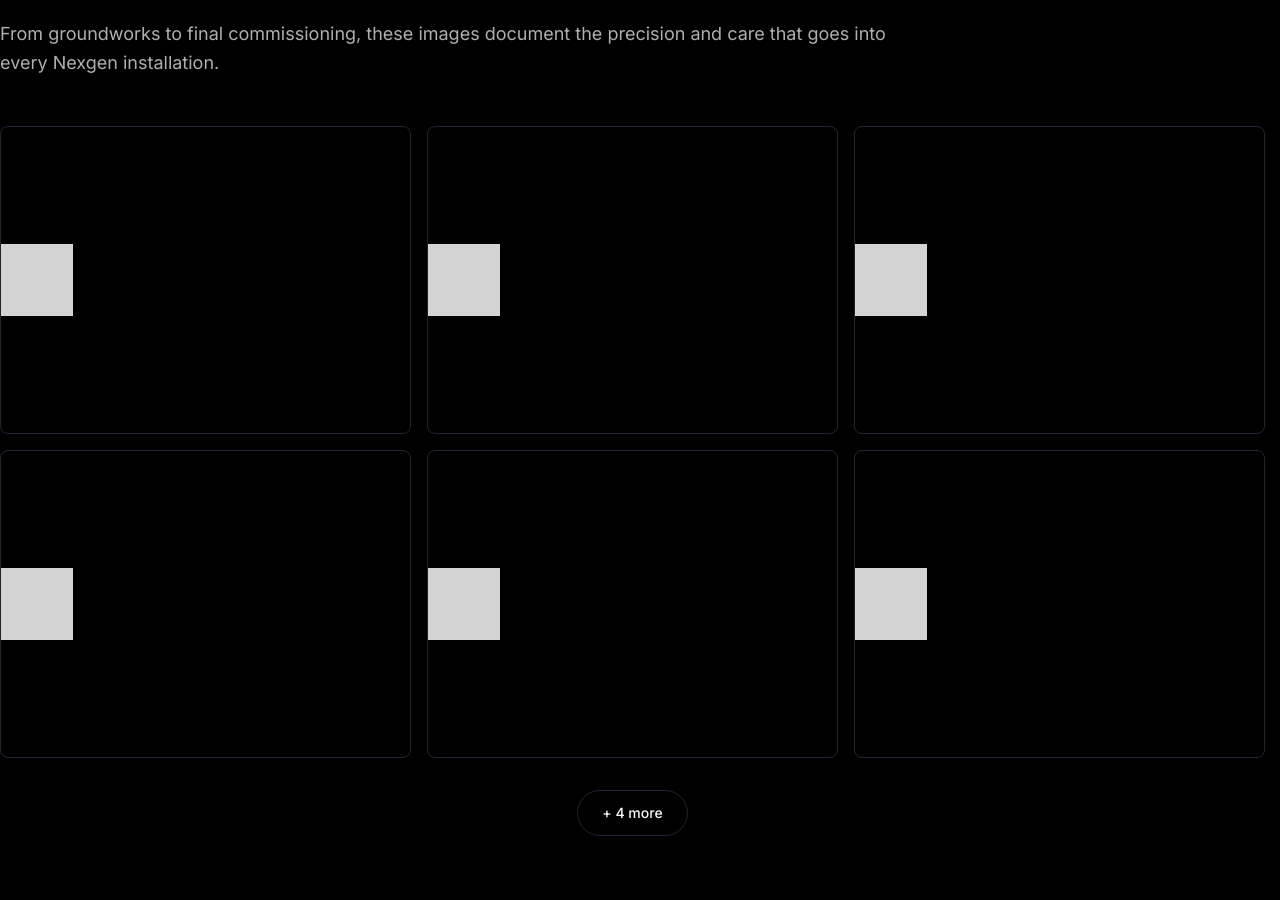
Test case: ProjectGallery › lightbox navigates full array — open at index 5, click next → shows image 6; counter shows 6 / 10
(page scrolled)
Click the button "Caption 5". click: coordinates (891, 604)
box: [854,450,1265,758]
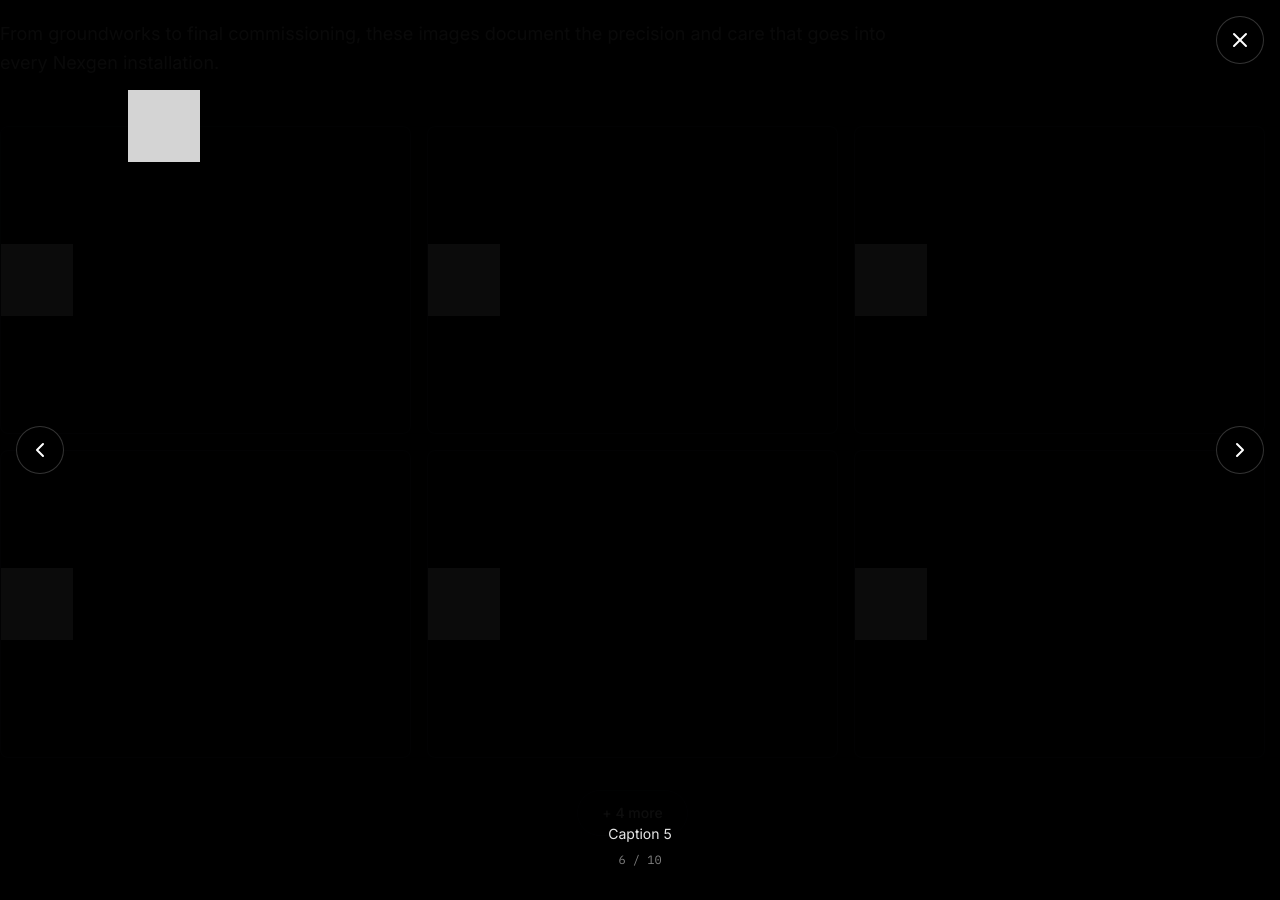
// Click next
Click the button named "Next image". click: coordinates (1240, 450)
box: [1216,426,1264,474]
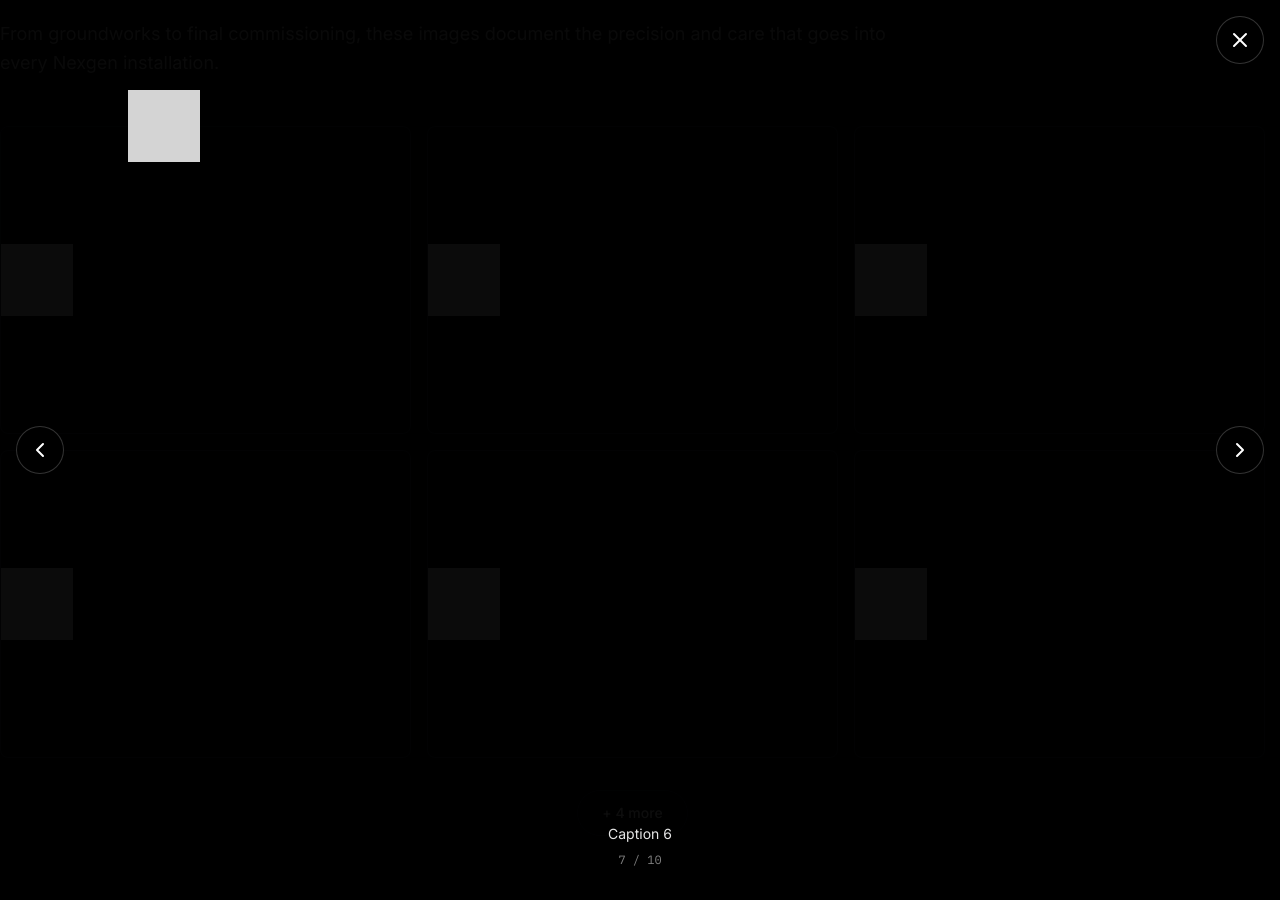
Expected: the text "7 / 10" is shown, [618,852,662,867]
